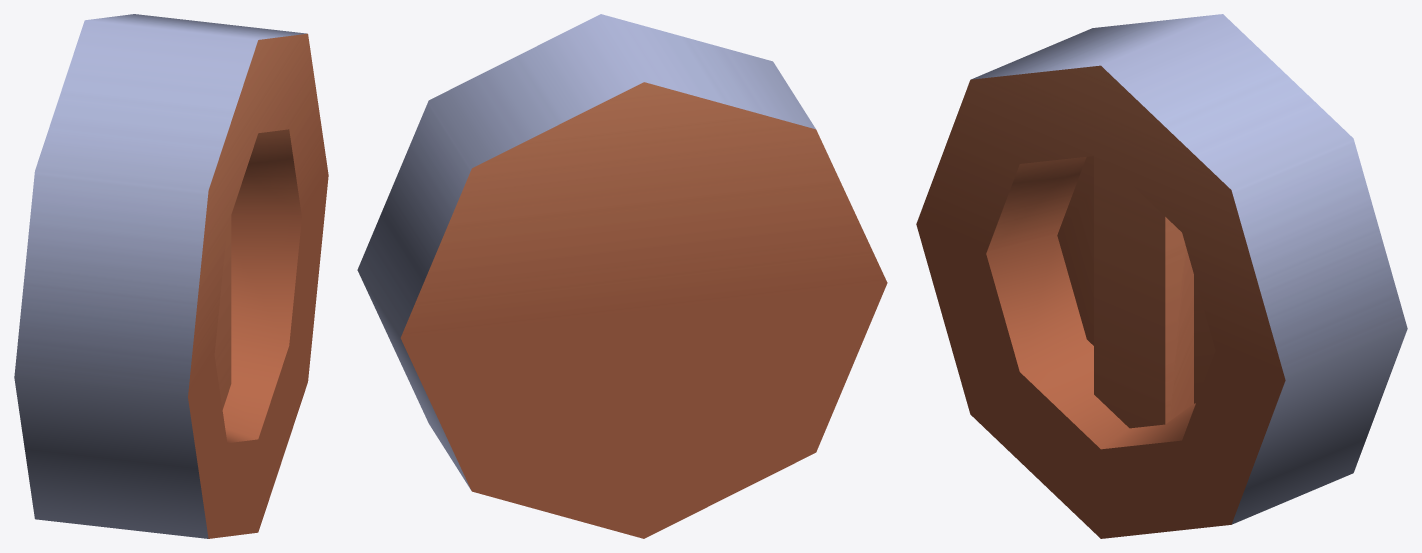
File: wheel_2_lev2.glb
3 renders of one model, left to right at view 1: azimuth 30°, elevation 25°; view 2: azimuth 150°, elevation 25°; view 3: azimuth 270°, elevation 25°, orthographic. The views are drawn at different scales.
Parts seen in each view (by area): view 1: wheel_2_lev2; view 2: wheel_2_lev2; view 3: wheel_2_lev2.
Boxes of the visible parts, left/top/right/bottom form: wheel_2_lev2: left=14, top=14, right=328, bottom=538; wheel_2_lev2: left=357, top=14, right=887, bottom=538; wheel_2_lev2: left=916, top=14, right=1407, bottom=538.
Size of the model in its own units: 0.379 by 0.4028 by 0.379.
Materials: 1 (1 with a texture image).
